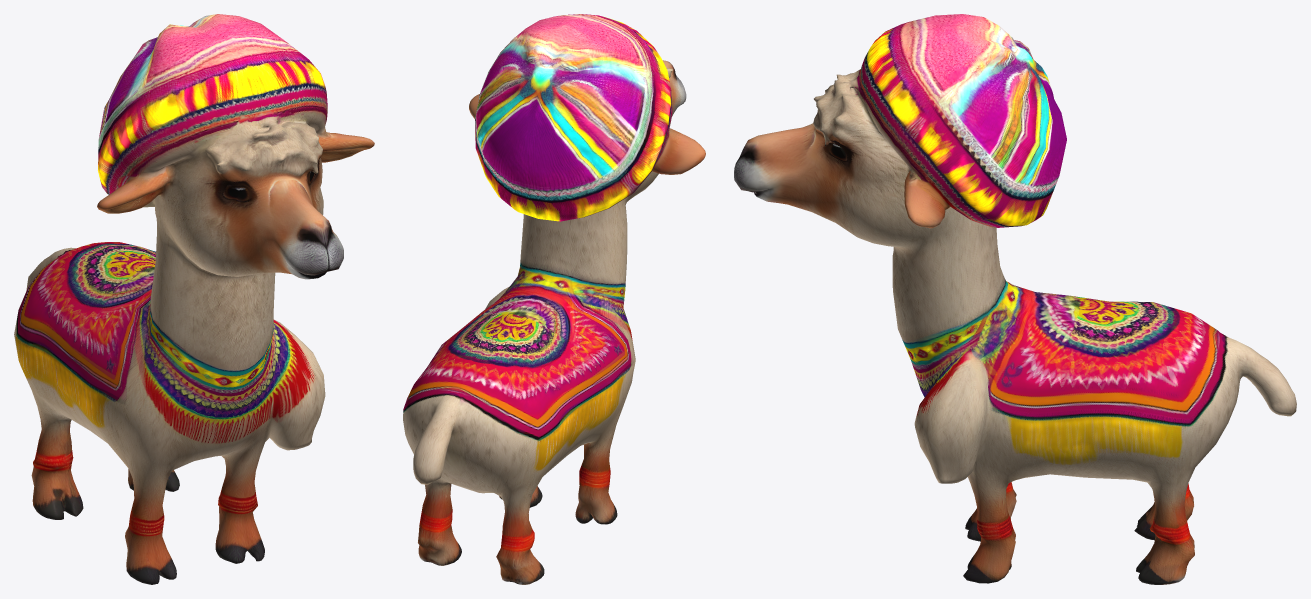
Rendered from Llama.glb.
The picture shows the model from 3 angles, left to right: view 1: azimuth 30°, elevation 25°; view 2: azimuth 150°, elevation 25°; view 3: azimuth 270°, elevation 25°; orthographic projection. The views are drawn at different scales.
Visible parts, largest first — view 1: Mesh_0; view 2: Mesh_0; view 3: Mesh_0.
Part boxes in pixels (x1=…): Mesh_0: x1=14, y1=14, x2=374, y2=584; Mesh_0: x1=403, y1=14, x2=705, y2=584; Mesh_0: x1=734, y1=14, x2=1296, y2=584.
Size of the model in its own units: 0.9907 by 1.92 by 1.84.
Materials: 1 (1 with a texture image).
